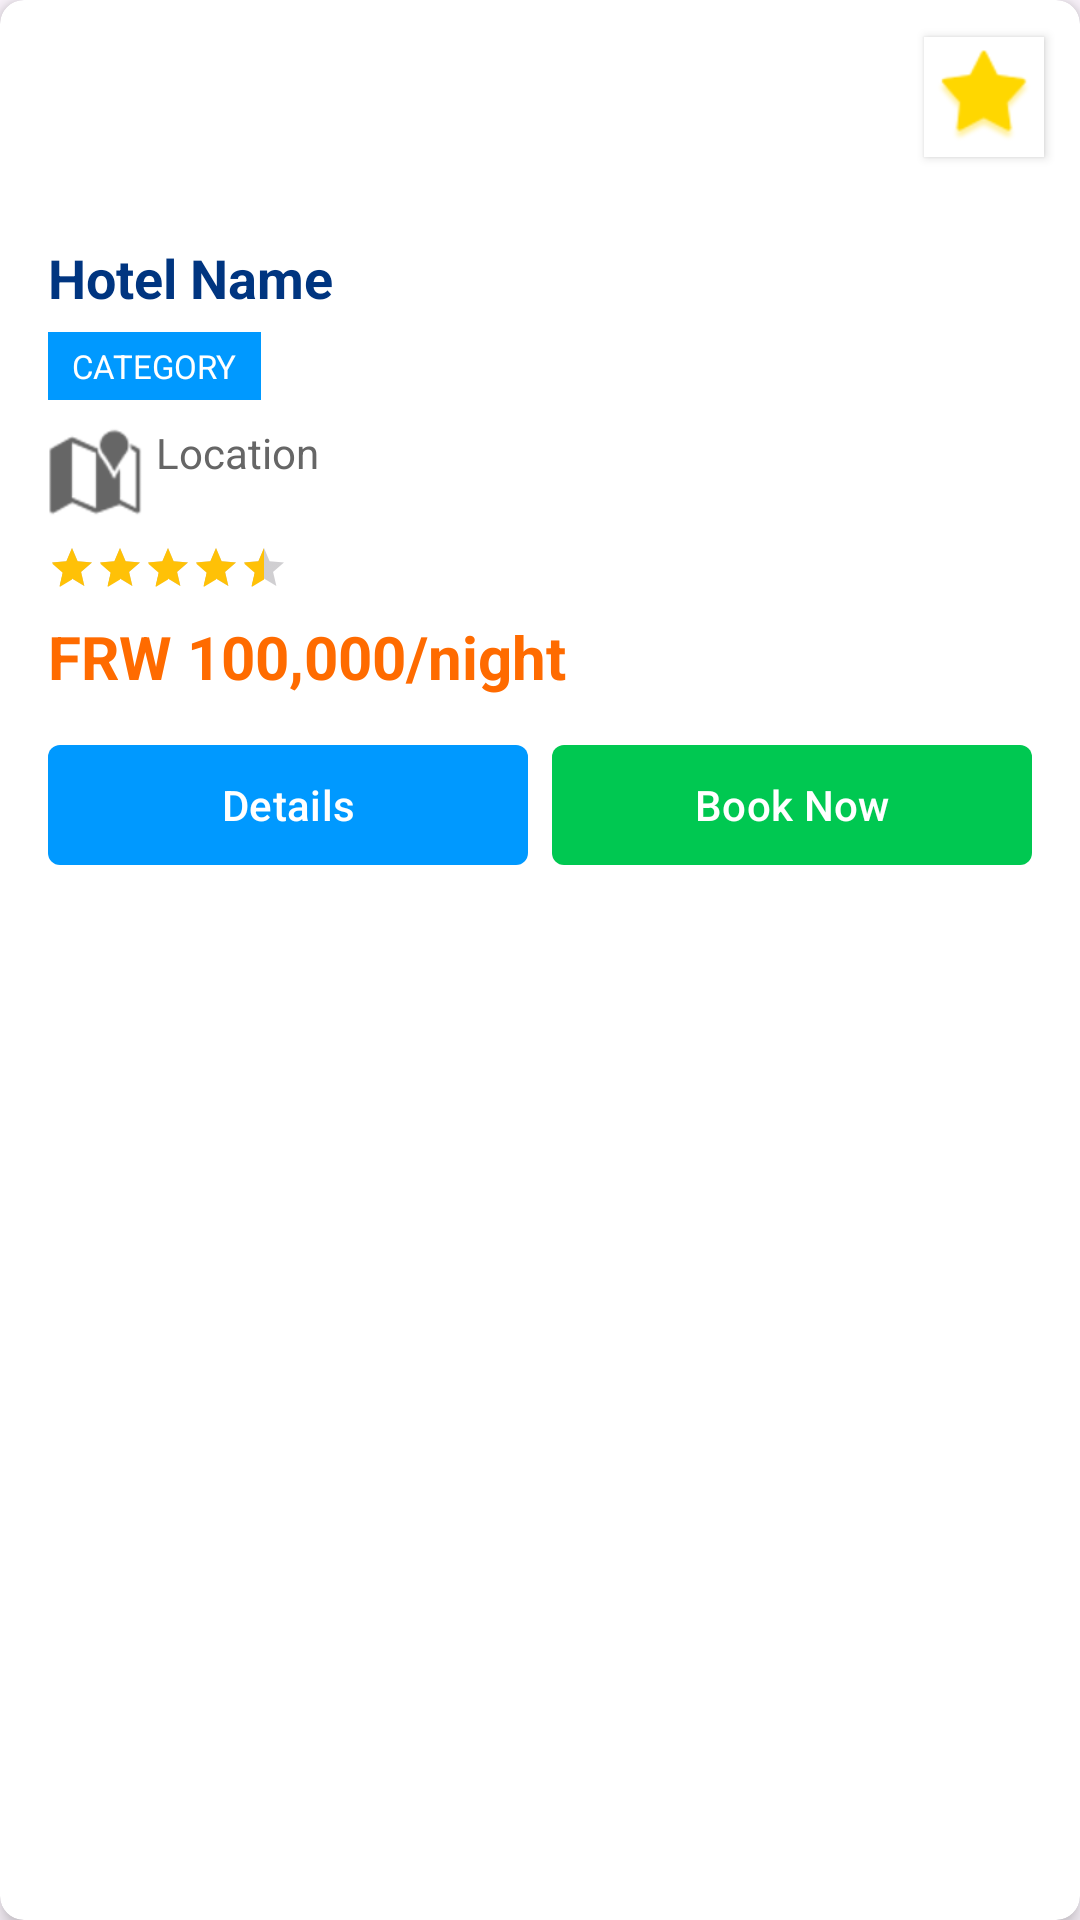

Icon click points for this 1080×1920 phone screenshot, format point (x, y):
Favorite: point (984, 93)
